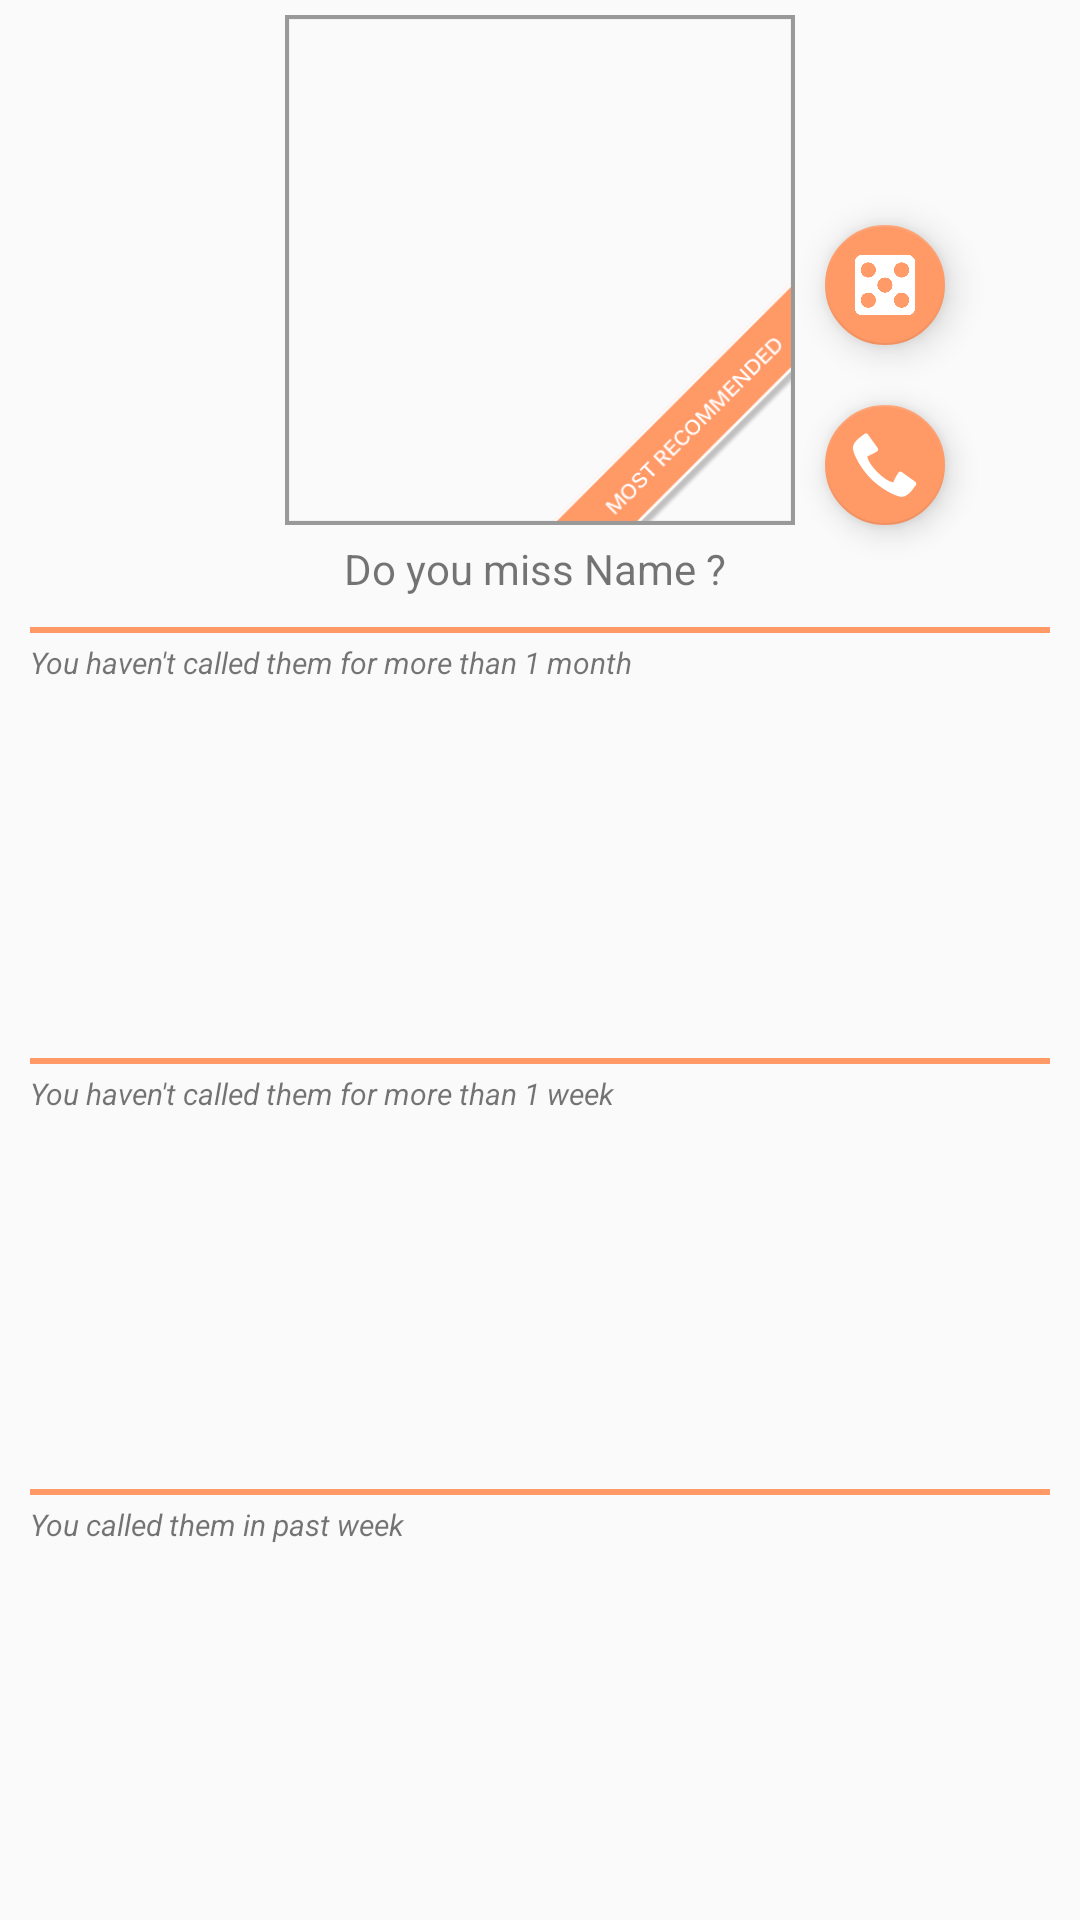

Screen size 1080x1920. Icon name, then its center in pixels as [x,y]:
dice: [885,285]
phone call: [885,465]
